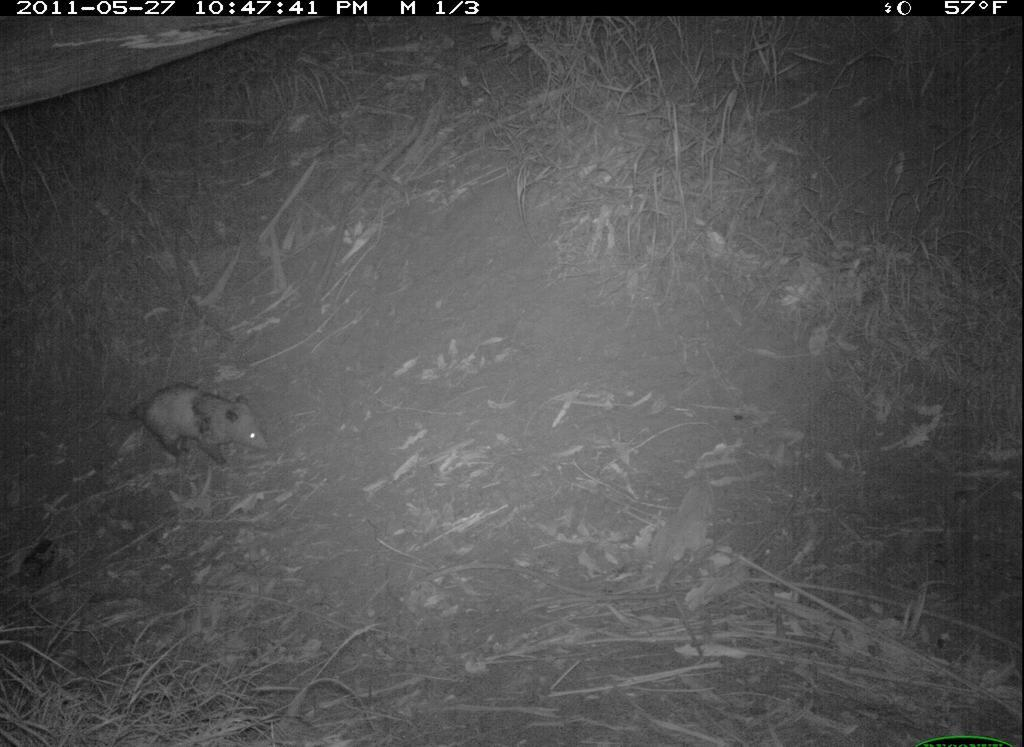opossum: (94, 350, 309, 509)
